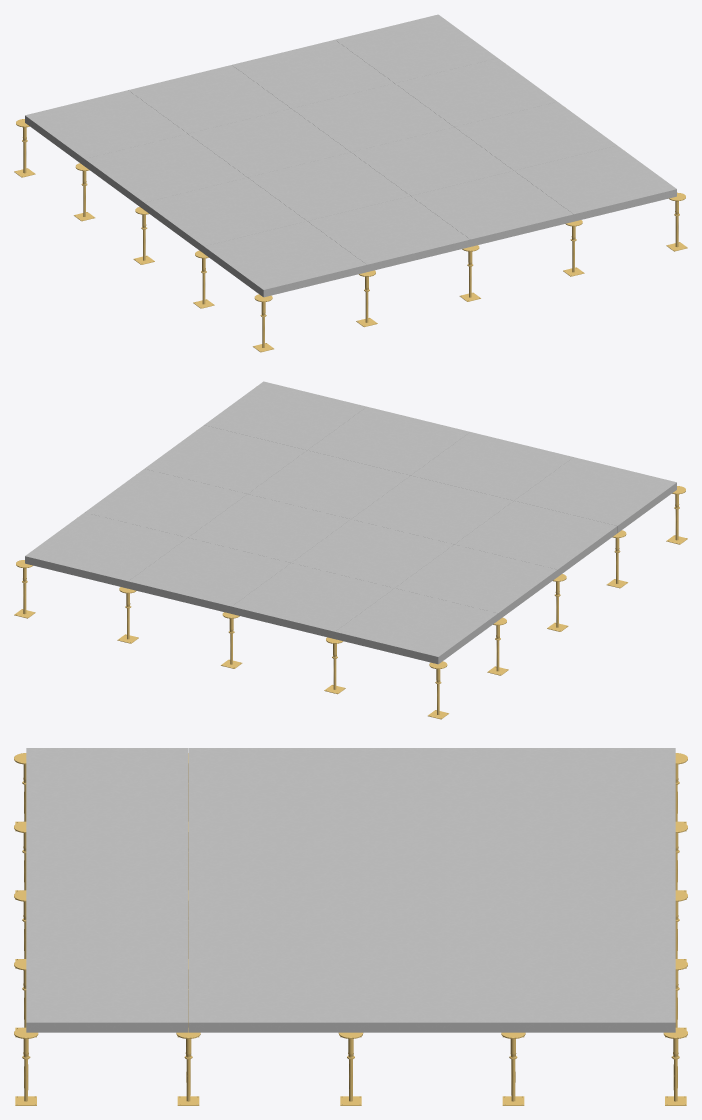
File: BucThap.glb
3 renders of one model, top to bottom at view 1: azimuth 30°, elevation 25°; view 2: azimuth 150°, elevation 25°; view 3: azimuth 270°, elevation 25°, orthographic. The views are drawn at different scales.
Visible parts, largest first — view 1: Generic Models 1 Generic Models 1 [293173], Flooring_KingspanAccessFloors_Pedestal_Europed_Grid Europed  (×2); view 2: Generic Models 1 Generic Models 1 [293173], Flooring_KingspanAccessFloors_Pedestal_Europed_Grid Europed  (×2); view 3: Generic Models 1 Generic Models 1 [293173], Flooring_KingspanAccessFloors_Pedestal_Europed_Grid Europed  (×2).
Boxes of the visible parts, x1,y1,x2,y2 form: Generic Models 1 Generic Models 1 [293173]: (25, 14, 676, 297); Flooring_KingspanAccessFloors_Pedestal_Europed_Grid Europed  (×2): (14, 119, 687, 352); Generic Models 1 Generic Models 1 [293173]: (25, 381, 676, 664); Flooring_KingspanAccessFloors_Pedestal_Europed_Grid Europed  (×2): (14, 486, 687, 719); Generic Models 1 Generic Models 1 [293173]: (26, 748, 675, 1032); Flooring_KingspanAccessFloors_Pedestal_Europed_Grid Europed  (×2): (14, 753, 687, 1105).
Size of the model in its own units: 1.63 by 0.2106 by 1.63.
3 materials, 1 textured.
